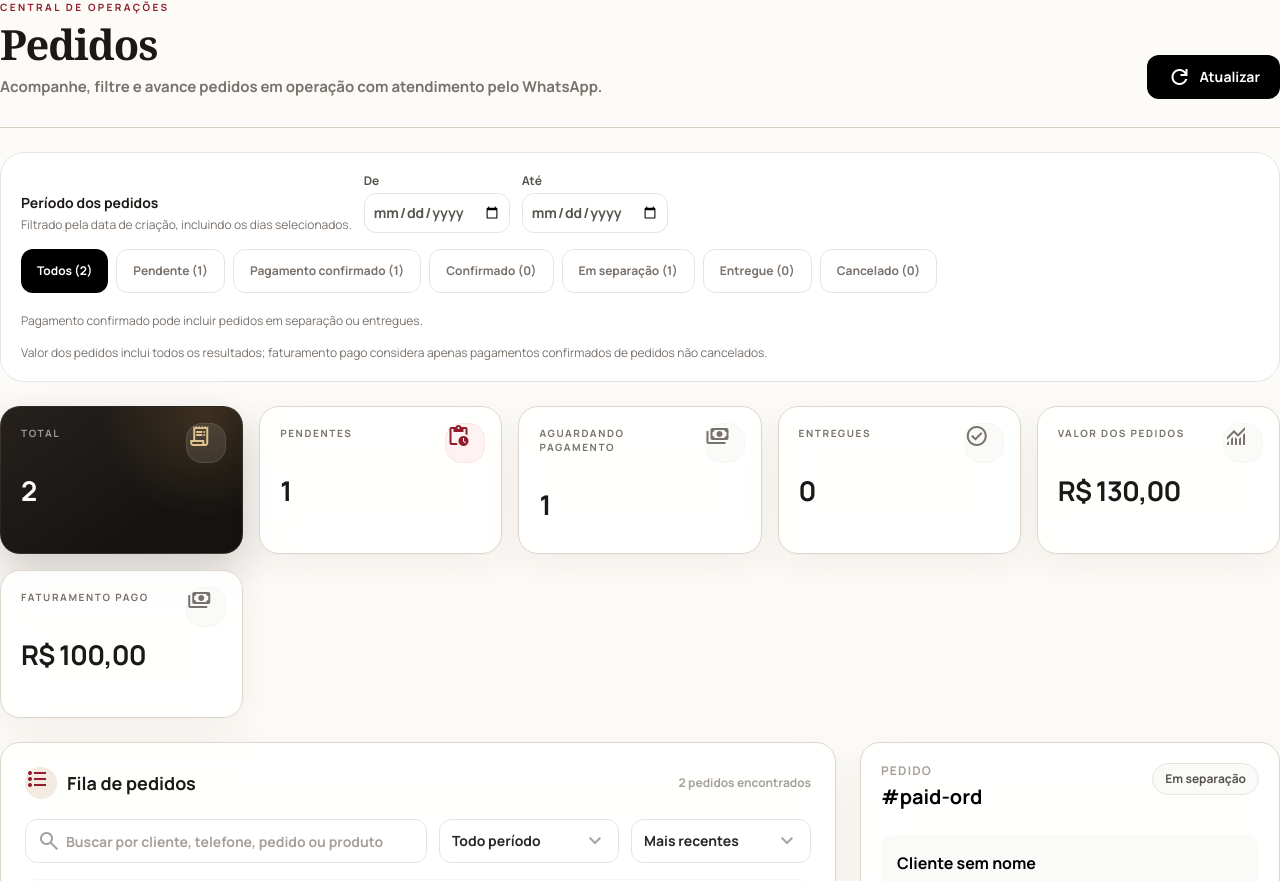
Test: filtros em Pedidos › atualiza contagem e valores por período e situação
The image size is (1280, 881).
Expected: the text "R$ 130,00" is shown, [1058,472,1181,509]
Click the button "Pagamento confirmado (1)" at (327, 271), box [233,249,421,293]
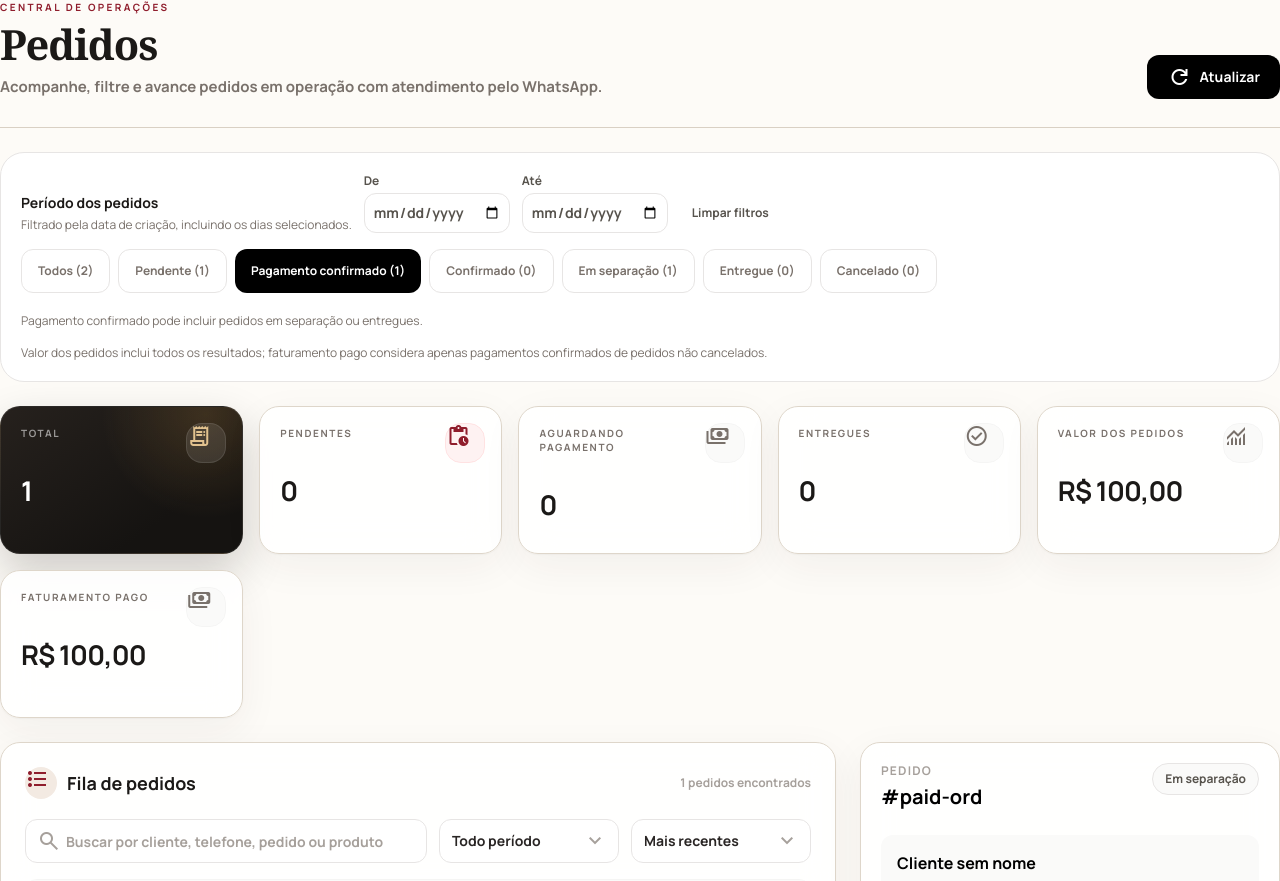
Now the text "130,00" is gone
Now the 1st text "R$ 100,00" is shown, box [1058,472,1183,509]
Type "2026-11-18" into the date field labelled "De" at (437, 213), box [364,193,510,233]
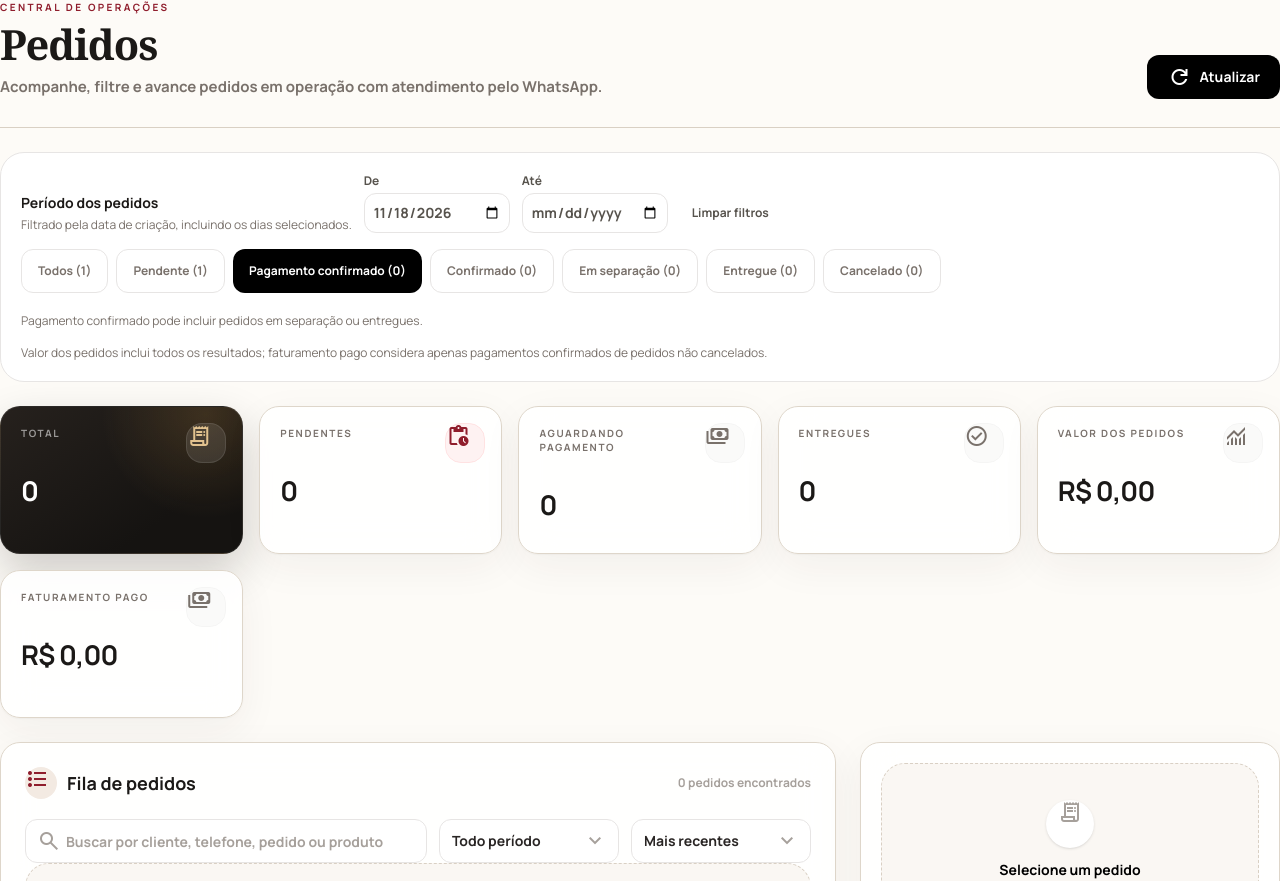
Now the text "100,00" is not shown
Click the button "Limpar filtros" at (730, 213), box [680,193,781,233]
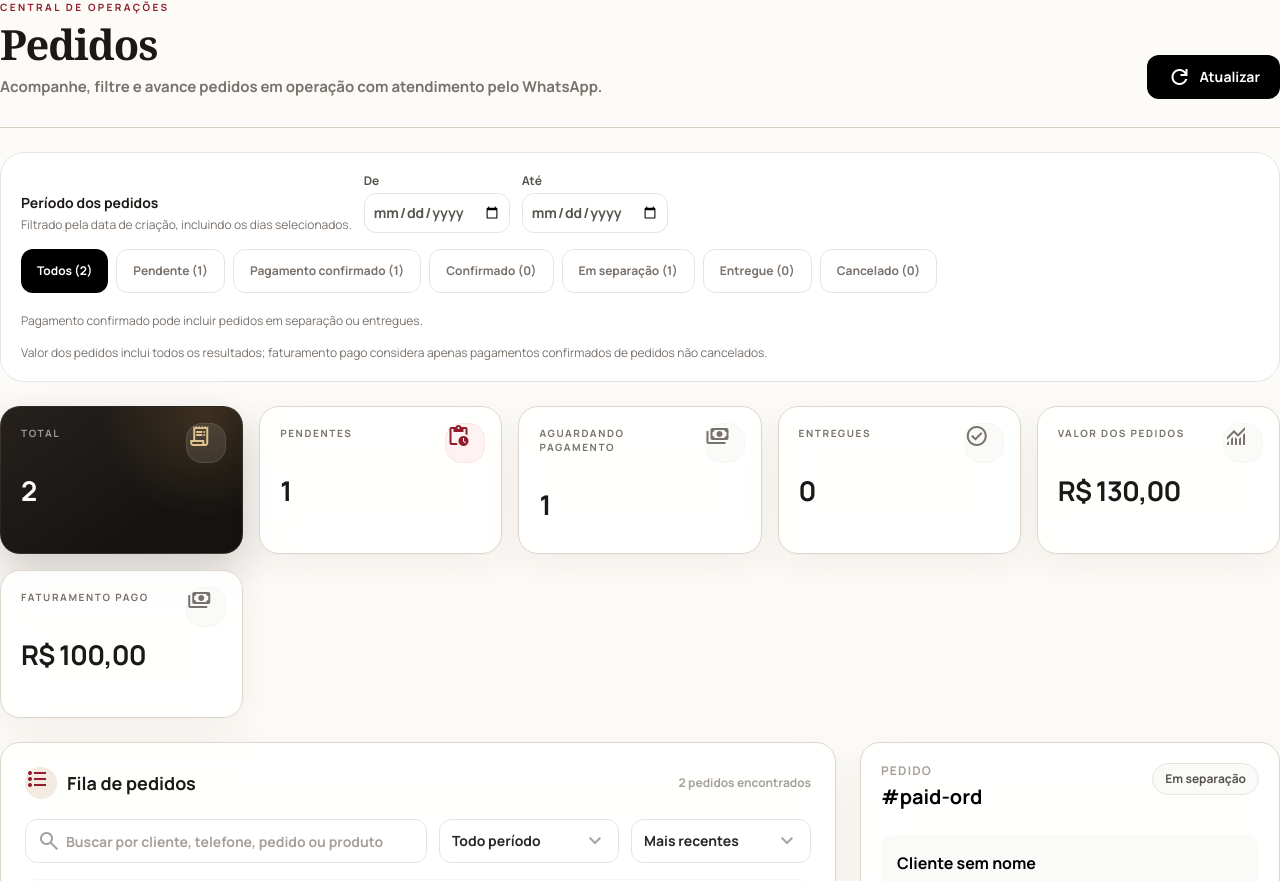
Now the text "R$ 130,00" is shown, box [1058,472,1181,509]
